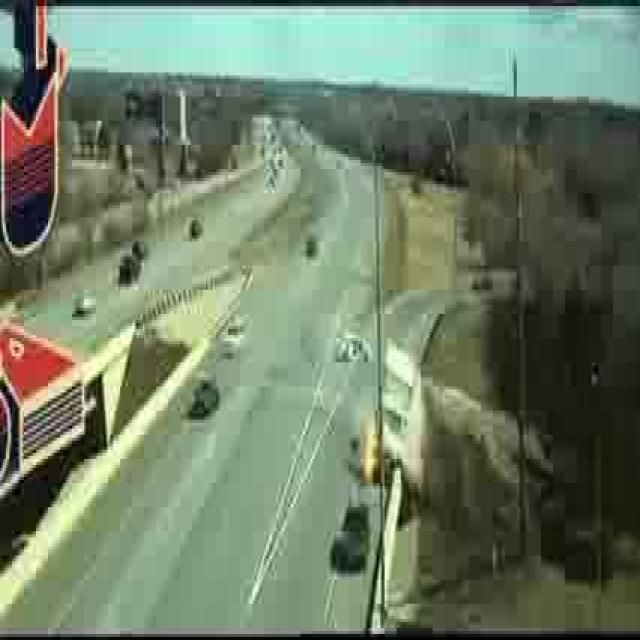multiple_accident: (359, 328, 421, 498)
